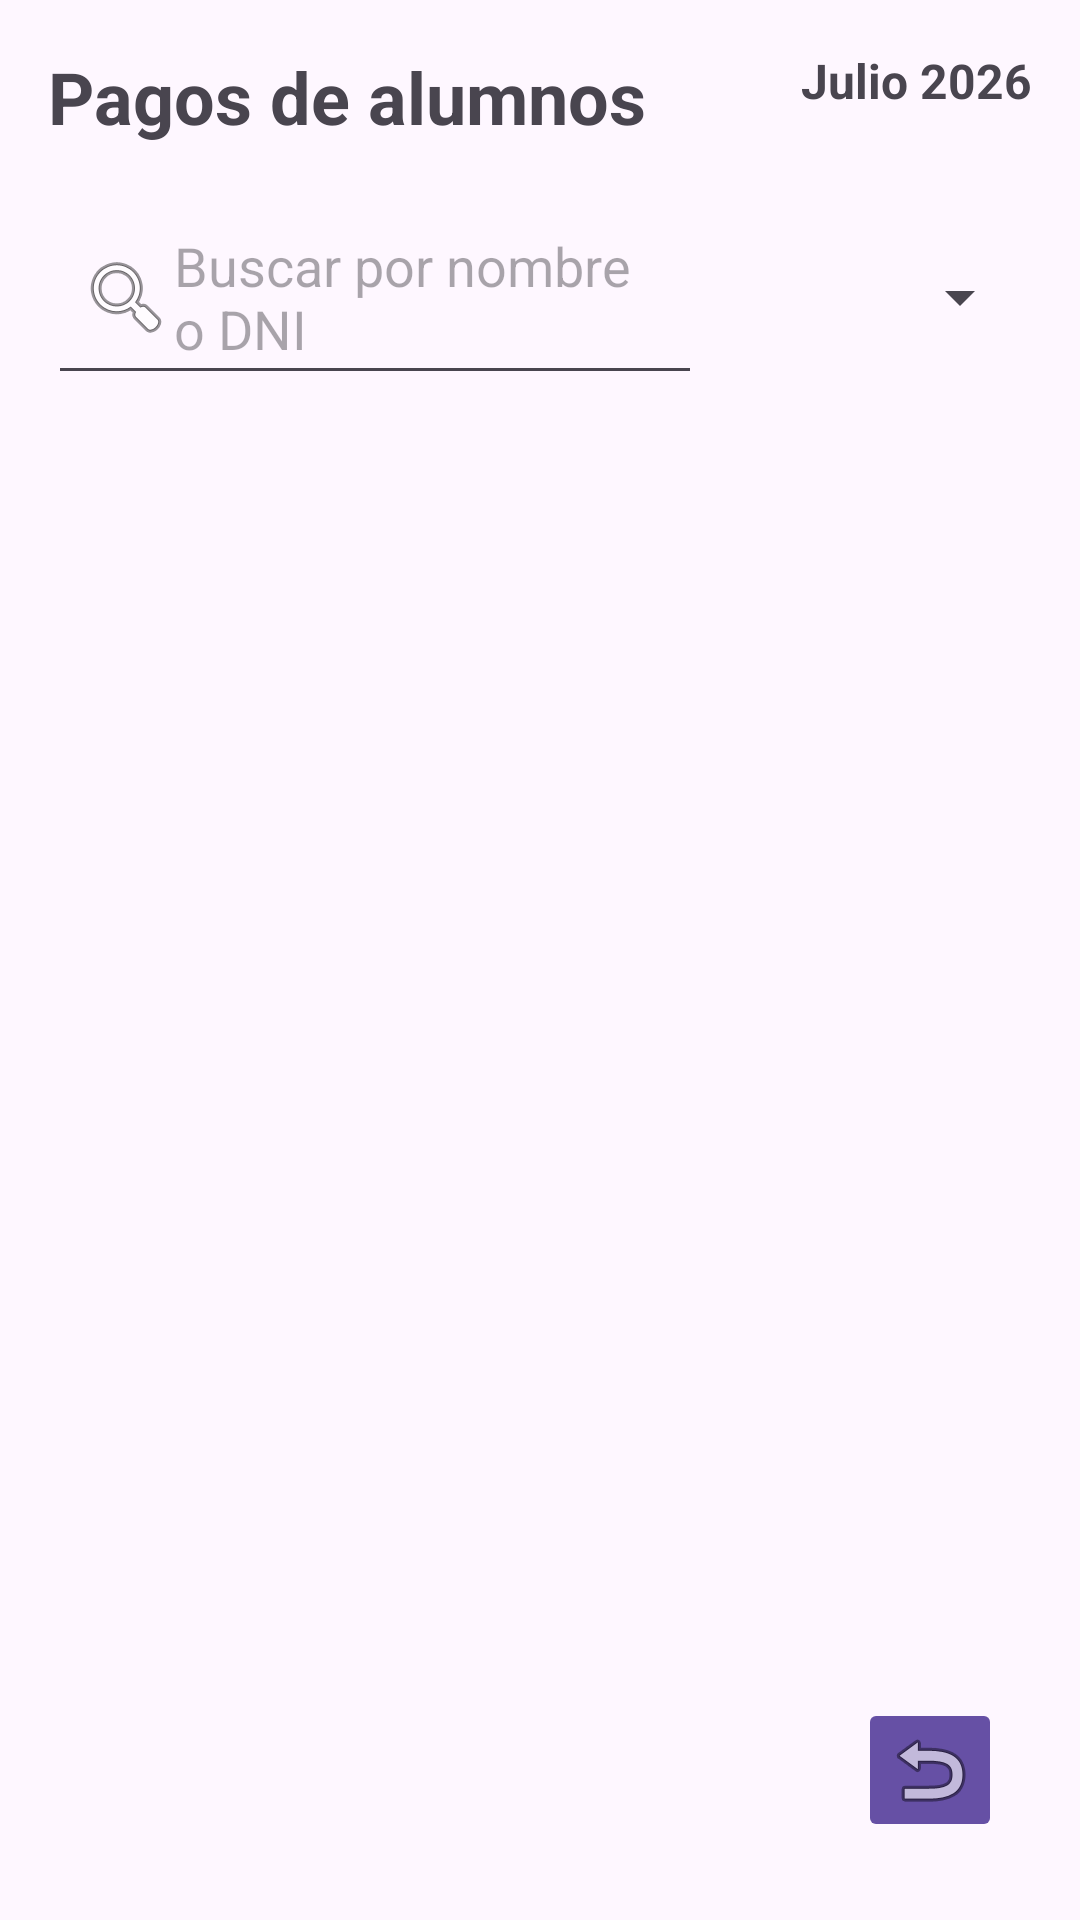

Named icons in this screenshot (1080w x 1920h) and their centers, [x,y]:
revert: [930,1770]
